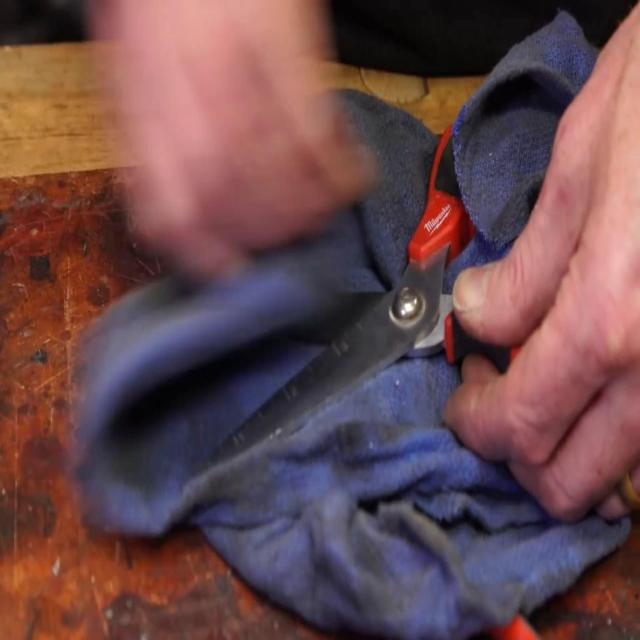scissor: (186, 123, 548, 486)
